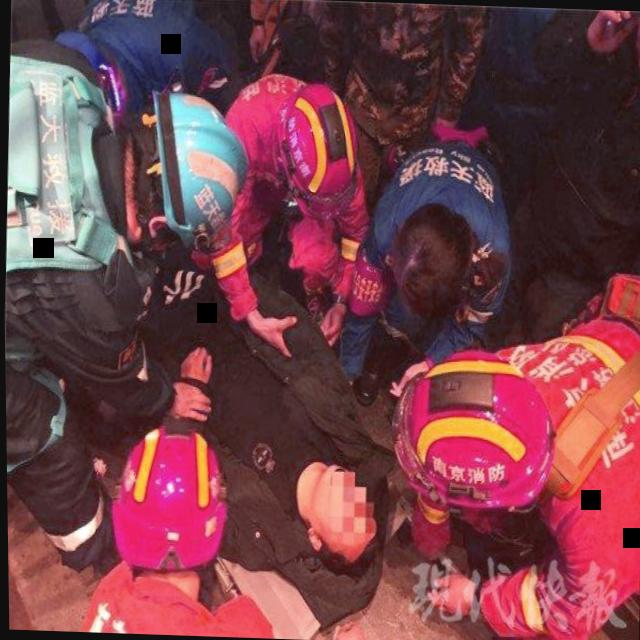Fall-Detected: (115, 276, 394, 618)
